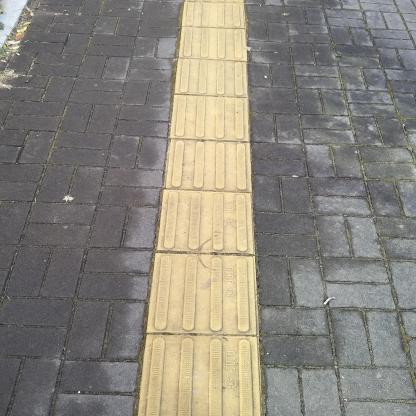podotacti: (117, 0, 278, 415)
